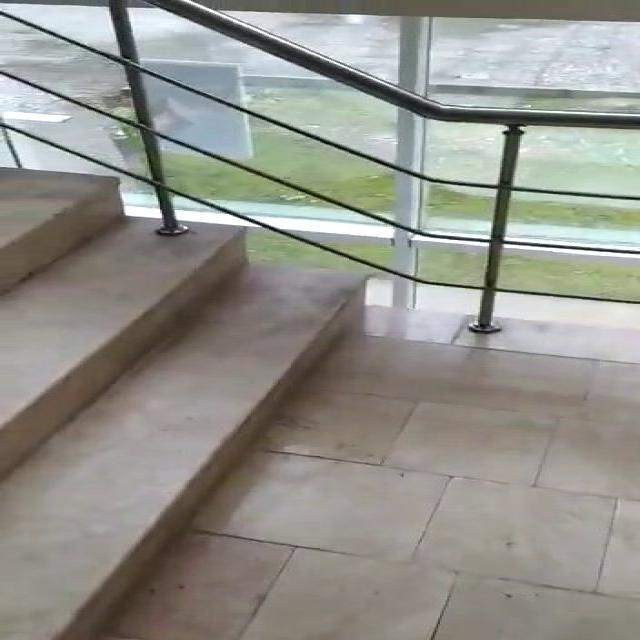stairs: (0, 164, 371, 639)
